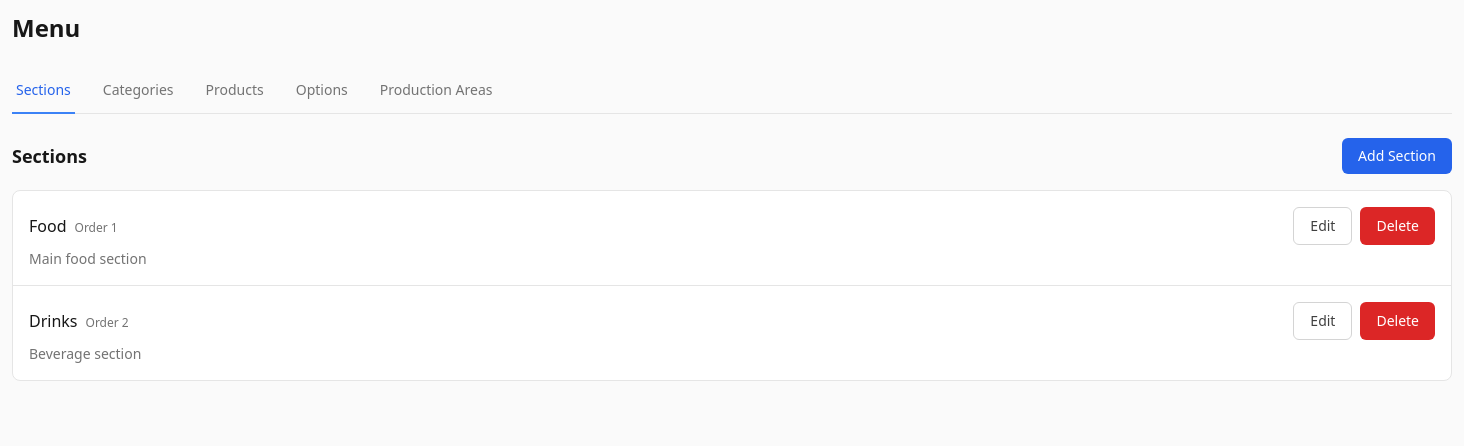
MenuPage › switches to the products tab when clicked
What coordinates should you click on to do the following:
click the tab "Products"
I would click on:
 (235, 91)
Its box is [202,68,268,114].
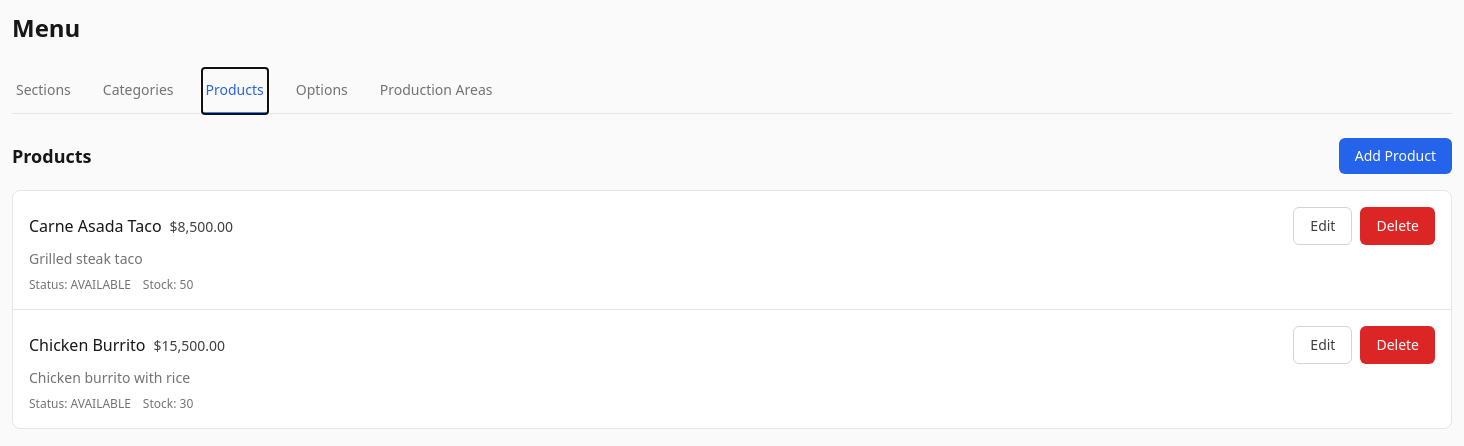
Expected: the heading "Products" is shown, [12,142,92,170]
